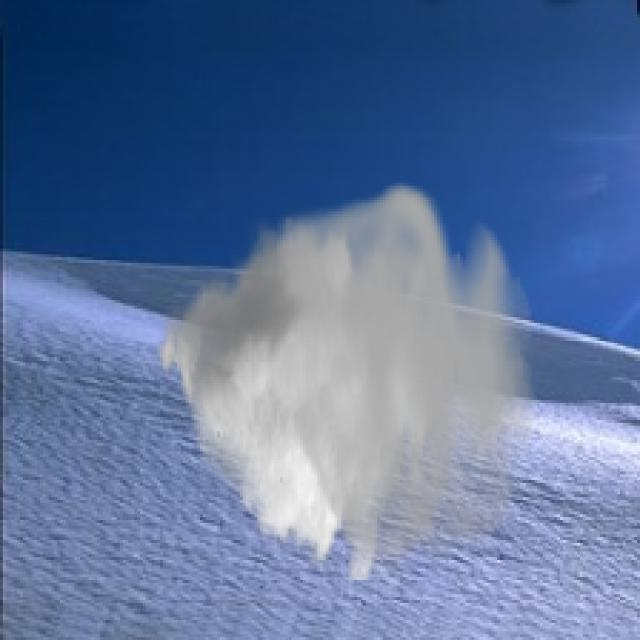smoke: (154, 177, 537, 580)
